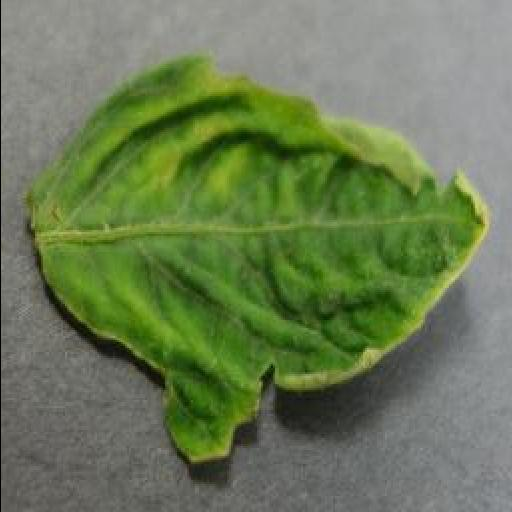disease_tomato: (22, 56, 488, 460)
